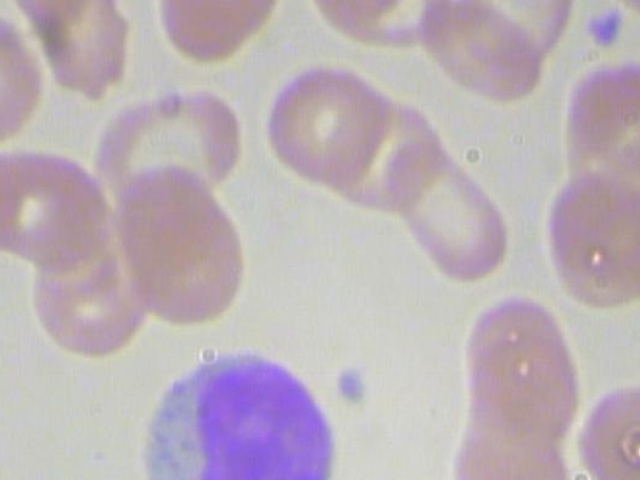Platelets: (585, 1, 631, 56), (329, 367, 368, 409)
RBC: (117, 161, 254, 338), (378, 134, 526, 285), (86, 84, 247, 217), (23, 207, 156, 358), (254, 58, 398, 191), (541, 164, 640, 315), (413, 0, 546, 109), (146, 0, 290, 74), (0, 5, 47, 155), (575, 377, 640, 480), (0, 475, 128, 480)
WBC: (132, 342, 340, 480)
